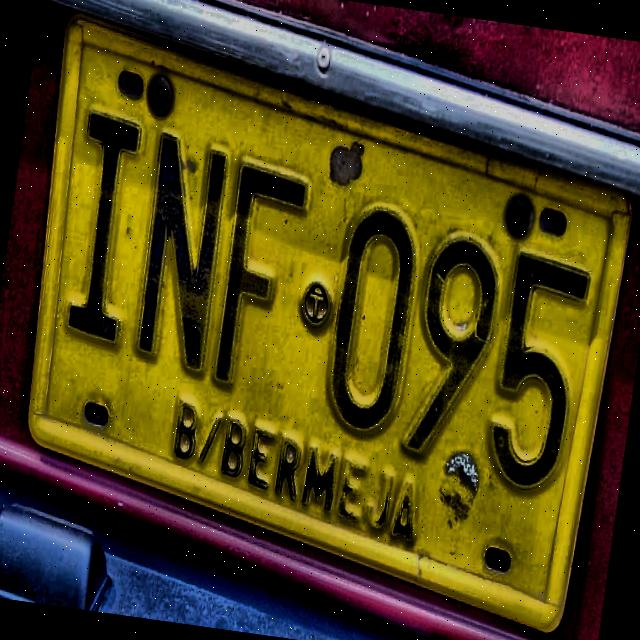0: (318, 200, 426, 438)
5: (478, 242, 600, 518)
9: (398, 227, 510, 474)
F: (208, 152, 312, 398)
I: (49, 103, 151, 344)
N: (123, 124, 239, 380)
